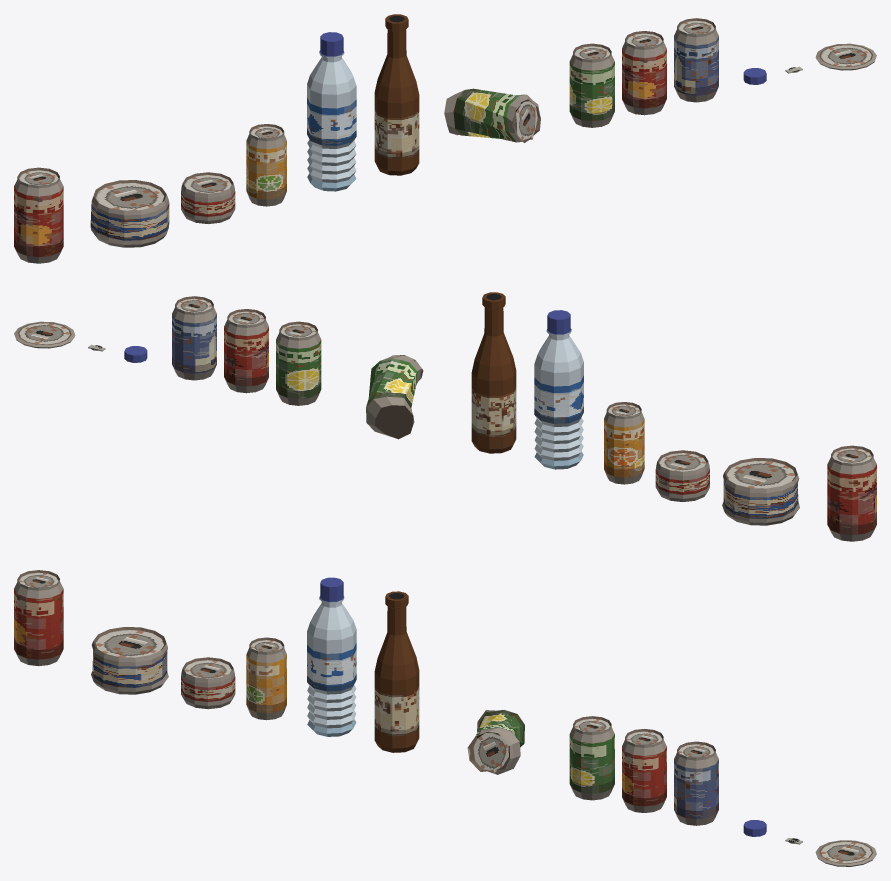
File: LooseCans.fbx
3 renders of one model, top to bottom at view 1: azimuth 30°, elevation 25°; view 2: azimuth 150°, elevation 25°; view 3: azimuth 330°, elevation 25°, orthographic.
Parts seen in each view (by area): view 1: Prop_WaterBottle, Prop_GlassBottle, Prop_FoodTin, Prop_SodaCan, Prop_CrushedCan, Prop_Can_Green, Prop_Can_Blue, Prop_Can_Red, Prop_JuiceCan, Prop_SmallTin, Prop_CanLid; view 2: Prop_WaterBottle, Prop_GlassBottle, Prop_FoodTin, Prop_SodaCan, Prop_CrushedCan, Prop_Can_Green, Prop_Can_Blue, Prop_Can_Red, Prop_JuiceCan, Prop_SmallTin, Prop_CanLid; view 3: Prop_WaterBottle, Prop_GlassBottle, Prop_FoodTin, Prop_SodaCan, Prop_Can_Green, Prop_Can_Blue, Prop_Can_Red, Prop_JuiceCan, Prop_CrushedCan, Prop_SmallTin, Prop_CanLid.
Part boxes in pixels (x1=…): Prop_WaterBottle: x1=307, y1=32, x2=356, y2=191; Prop_GlassBottle: x1=374, y1=14, x2=419, y2=175; Prop_FoodTin: x1=90, y1=180, x2=169, y2=247; Prop_SodaCan: x1=14, y1=167, x2=63, y2=263; Prop_CrushedCan: x1=444, y1=88, x2=540, y2=142; Prop_Can_Green: x1=569, y1=43, x2=614, y2=127; Prop_Can_Blue: x1=674, y1=18, x2=718, y2=102; Prop_Can_Red: x1=622, y1=31, x2=666, y2=115; Prop_JuiceCan: x1=246, y1=124, x2=286, y2=206; Prop_SmallTin: x1=181, y1=172, x2=235, y2=223; Prop_CanLid: x1=815, y1=43, x2=876, y2=70; Prop_WaterBottle: x1=534, y1=310, x2=583, y2=469; Prop_GlassBottle: x1=471, y1=292, x2=516, y2=453; Prop_FoodTin: x1=722, y1=458, x2=799, y2=525; Prop_SodaCan: x1=827, y1=445, x2=876, y2=541; Prop_CrushedCan: x1=366, y1=355, x2=423, y2=439; Prop_Can_Green: x1=276, y1=321, x2=321, y2=405; Prop_Can_Blue: x1=172, y1=296, x2=216, y2=380; Prop_Can_Red: x1=224, y1=309, x2=268, y2=393; Prop_JuiceCan: x1=604, y1=402, x2=644, y2=484; Prop_SmallTin: x1=655, y1=450, x2=709, y2=501; Prop_CanLid: x1=14, y1=321, x2=75, y2=348; Prop_WaterBottle: x1=307, y1=577, x2=356, y2=736; Prop_GlassBottle: x1=374, y1=591, x2=419, y2=752; Prop_FoodTin: x1=91, y1=627, x2=168, y2=694; Prop_SodaCan: x1=14, y1=570, x2=63, y2=666; Prop_Can_Green: x1=569, y1=716, x2=614, y2=800; Prop_Can_Blue: x1=674, y1=741, x2=718, y2=825; Prop_Can_Red: x1=622, y1=729, x2=666, y2=812; Prop_JuiceCan: x1=246, y1=637, x2=286, y2=720; Prop_CrushedCan: x1=467, y1=710, x2=524, y2=774; Prop_SmallTin: x1=181, y1=657, x2=235, y2=709; Prop_CanLid: x1=815, y1=840, x2=876, y2=866.
Size of the model in its own units: 131 by 21.8 by 12.98.
Materials: 1 (1 with a texture image).
